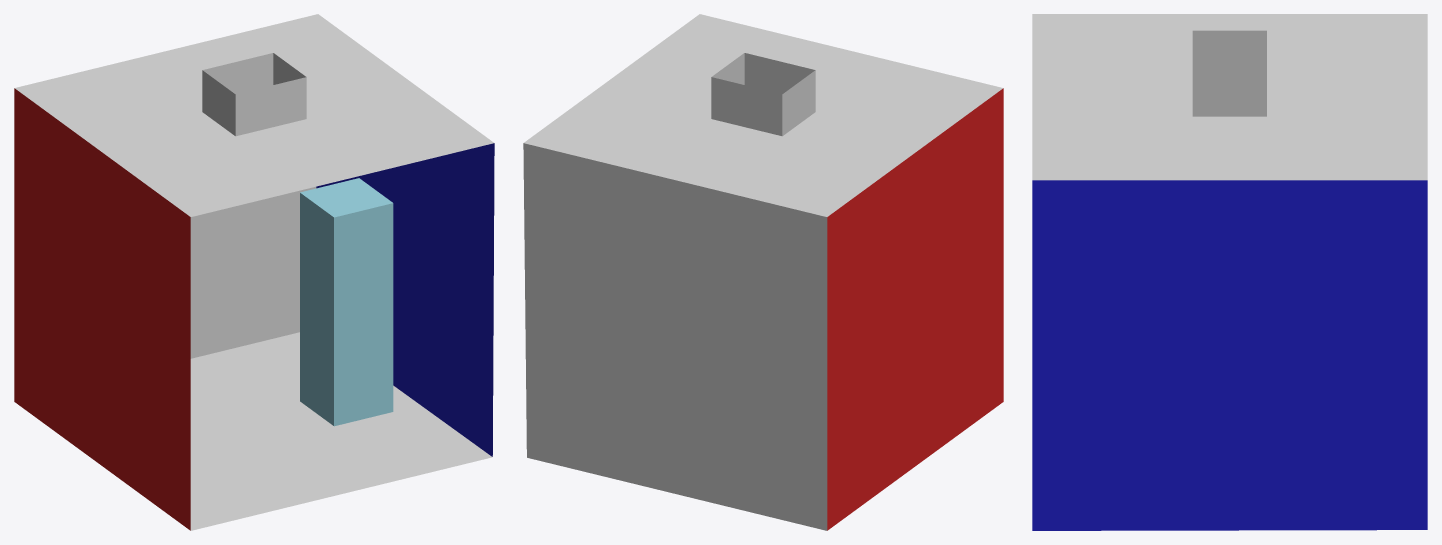
Rendered from cornellbox_spheres3.DAE.
The picture shows the model from 3 angles, left to right: view 1: azimuth 30°, elevation 25°; view 2: azimuth 150°, elevation 25°; view 3: azimuth 270°, elevation 25°; orthographic projection. The views are drawn at different scales.
Visible parts, largest first — view 1: object2, object4, object3, Box001; view 2: object2, object4; view 3: object3, object2.
Part boxes in pixels (box(x1,y1,x2,y2)): object2: box(14, 14, 493, 530); object4: box(14, 88, 190, 530); object3: box(316, 143, 494, 456); Box001: box(300, 178, 393, 426); object2: box(523, 14, 1003, 530); object4: box(827, 88, 1003, 530); object3: box(1032, 180, 1427, 530); object2: box(1032, 14, 1427, 180).
Size of the model in its own units: 556 by 559 by 622.
